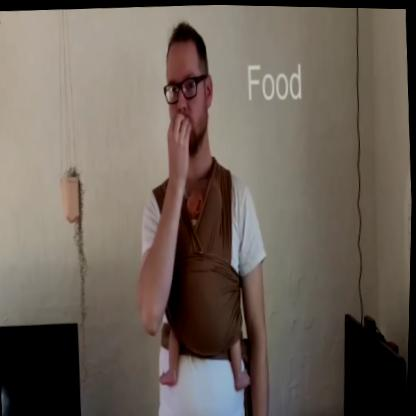Food: (148, 18, 223, 182)
